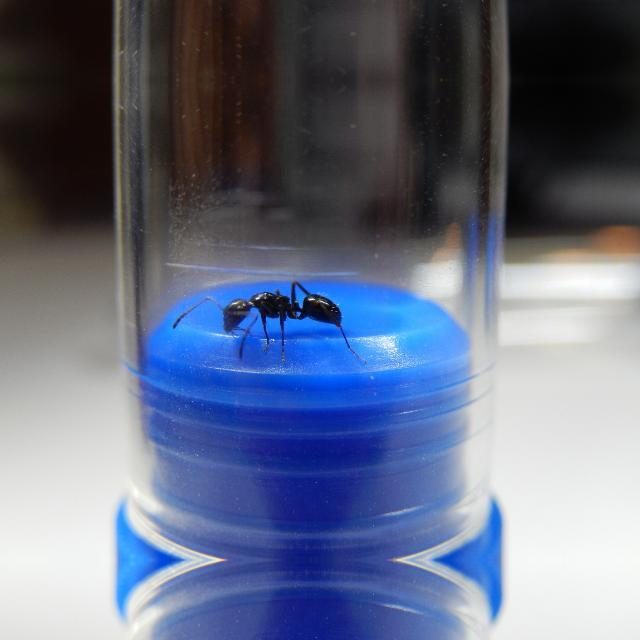Camponotus: (202, 276, 356, 346)
